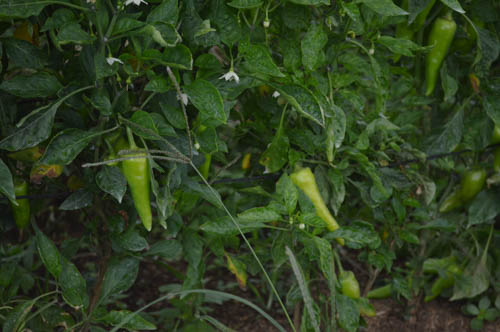ChiliPepper: (291, 168, 341, 233), (425, 20, 454, 100), (122, 156, 152, 231), (457, 168, 482, 202)
